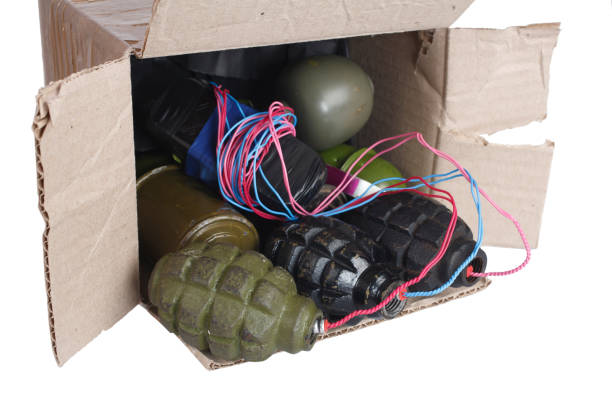e1: (148, 243, 332, 372)
